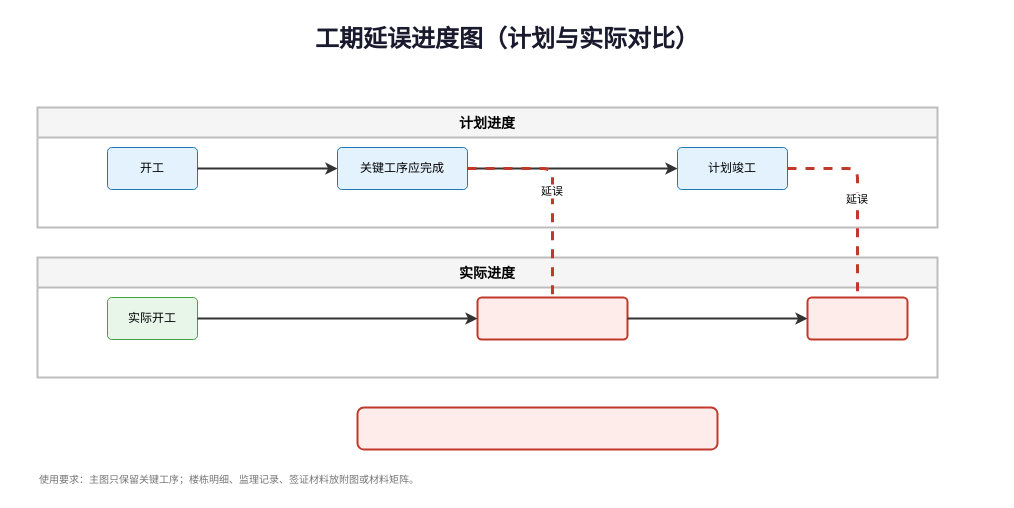
Image size: 1014x508. Some labels were removed from this diagram. Each missing label, with the centre of its shape:
"关键工序实际完成" goes at (x=552, y=318).
"实际竣工" goes at (x=857, y=318).
"待补充：延误区间 天数与责任主体" goes at (x=537, y=428).
